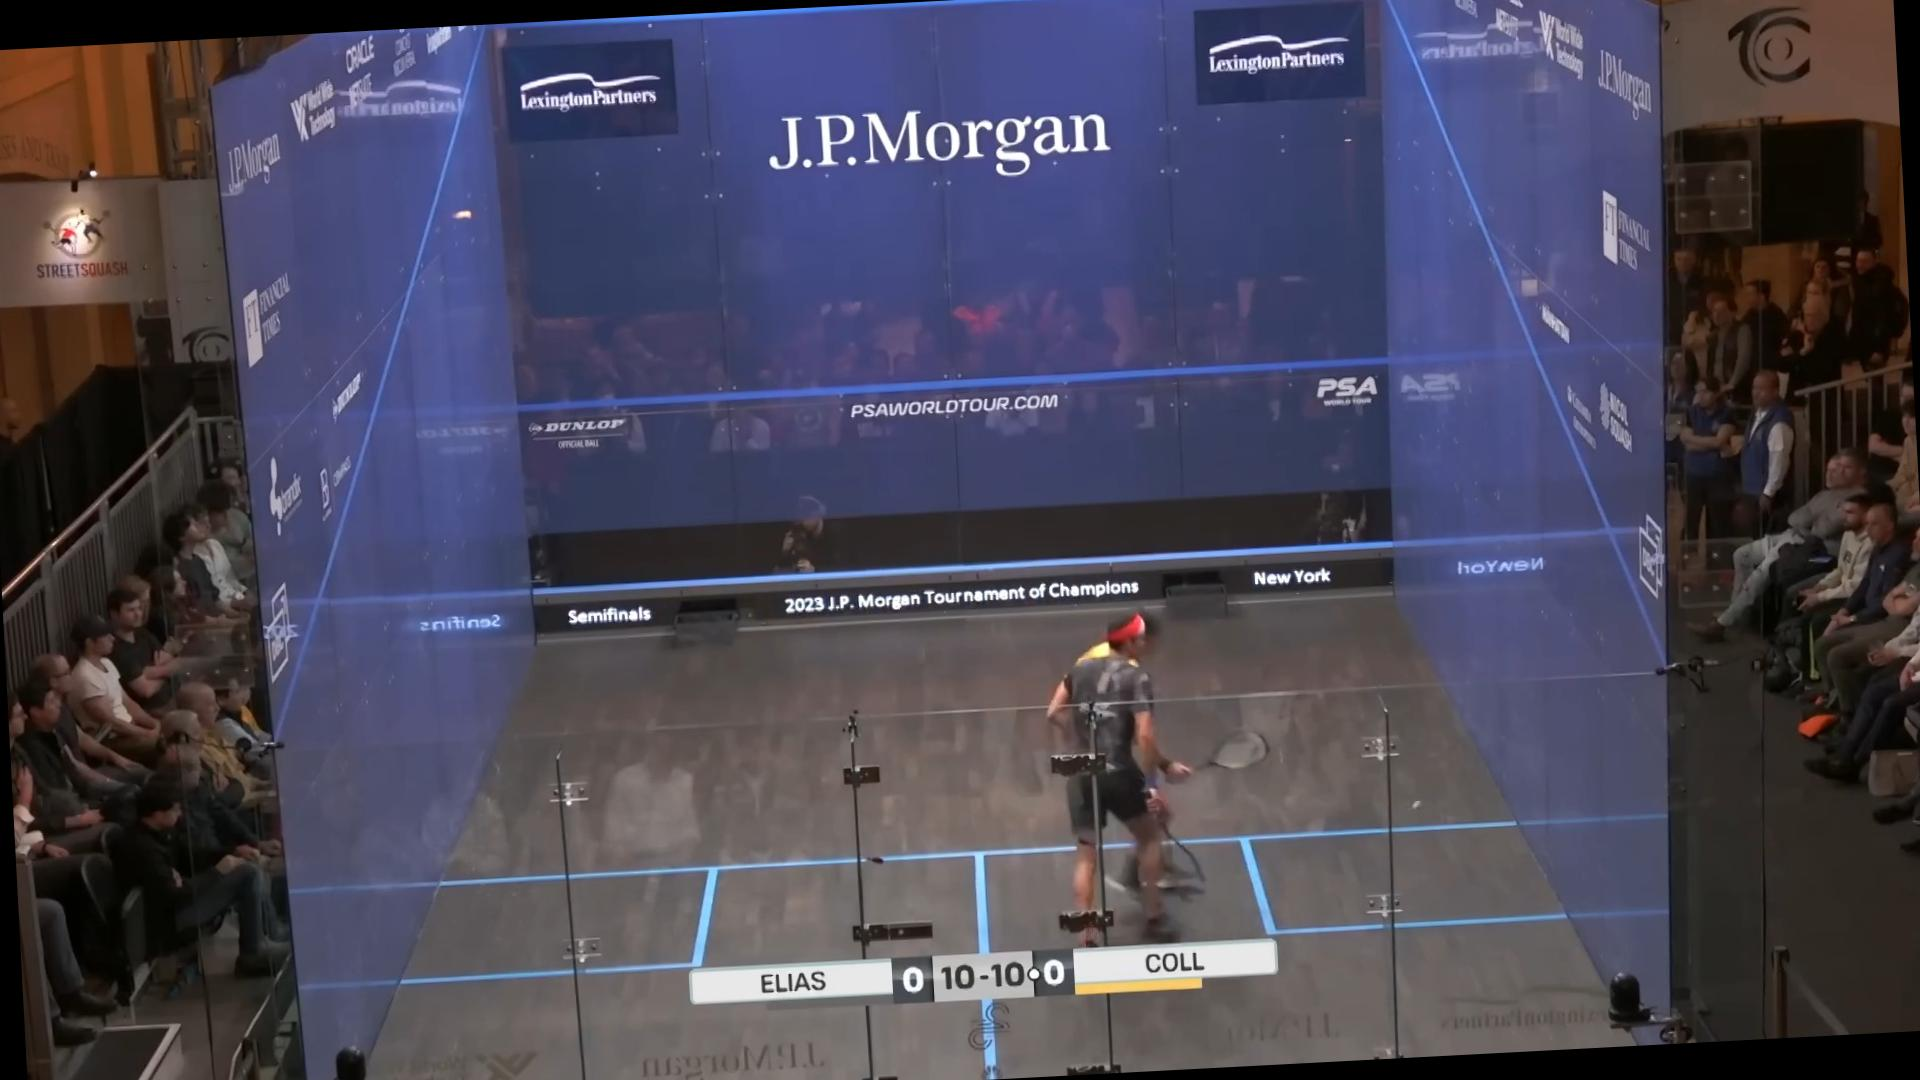Racket: (1170, 716, 1275, 789), (1149, 806, 1212, 905)
